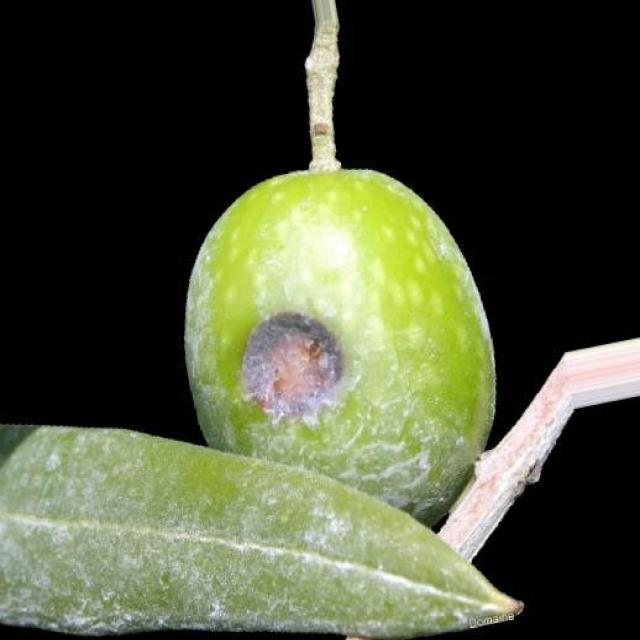Olive Fruit Fly: (185, 170, 494, 526)
